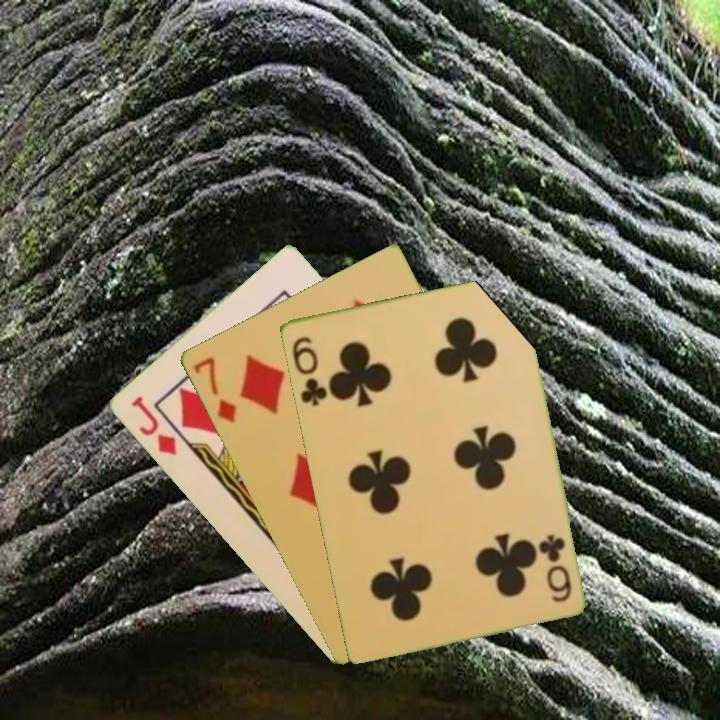6c: (288, 332, 330, 409), (536, 530, 574, 605)
7d: (189, 353, 240, 426)
Jd: (127, 392, 180, 459)
